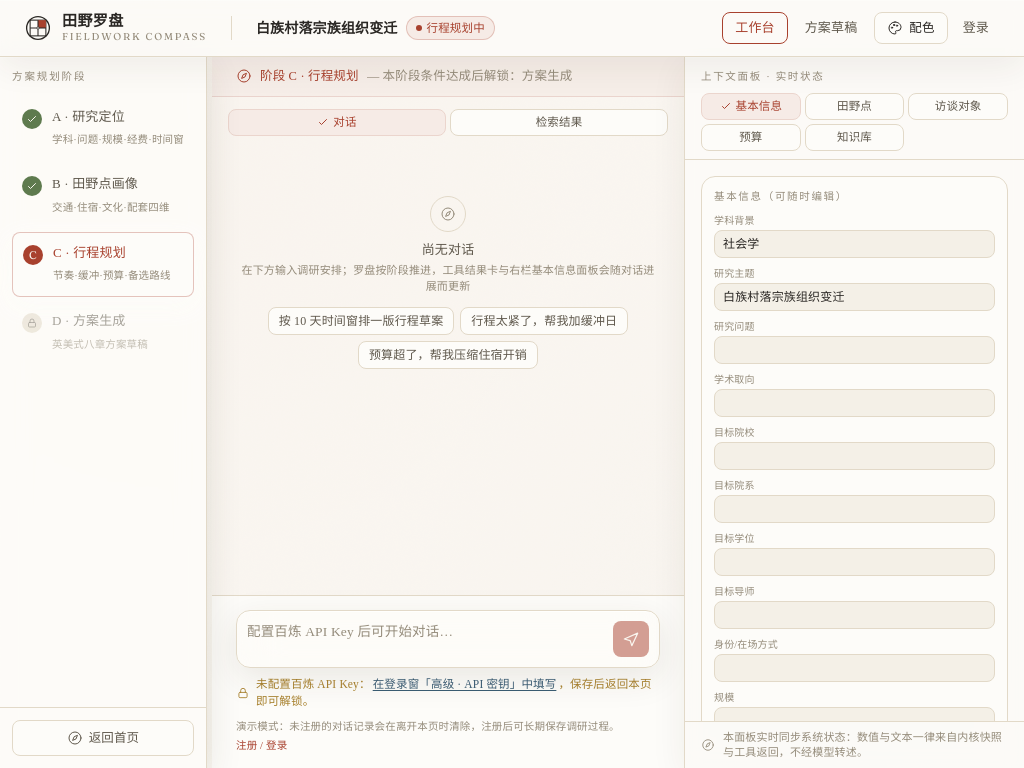
Test case: Workspace 无 key 拦截（可浏览不可发） › P5：锁定提示就地弹密钥层，保存百炼 Key 后关闭即解锁（不离开本页）
The width and height of the screenshot is (1024, 768).
Check: the element with test id "composer-lock-hint" shows "未配置百炼 API Key", box [256,678,371,690]
Note: 提示内按钮就地弹登录窗并自动展开高级密钥区（免回首页）
Click the button "在登录窗「高级 · API 密钥」中填写" at [465, 685], box [373,676,556,693]
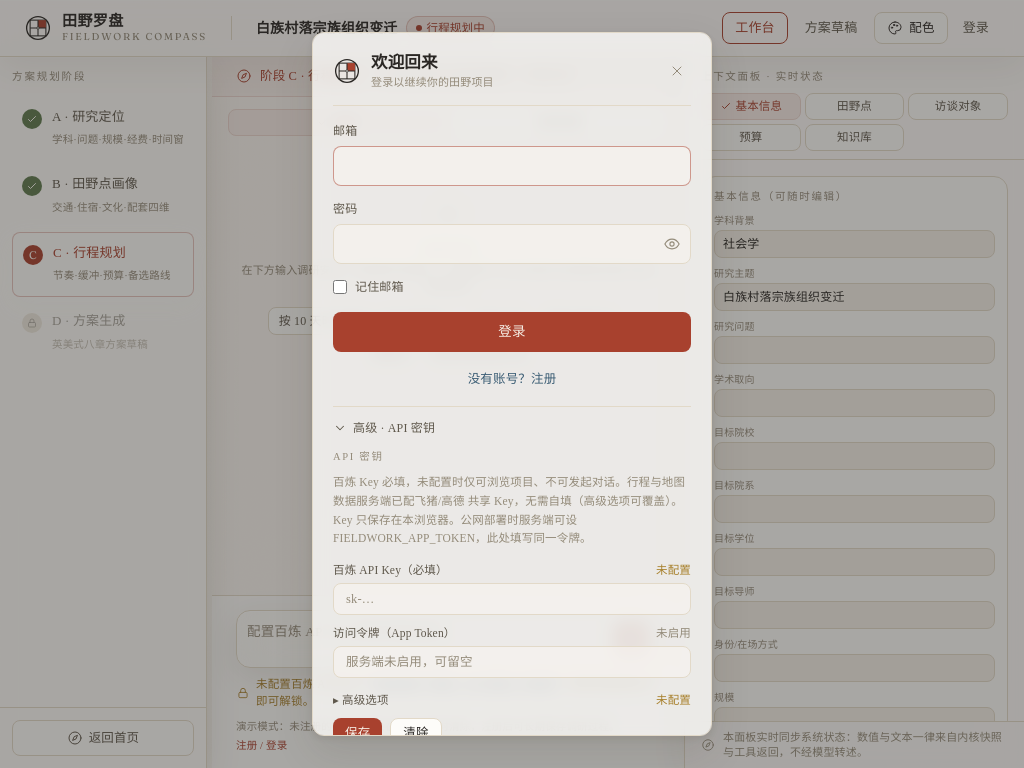
Check: the dialog named "登录或注册" is shown, box [312,32,712,736]
Note: 弹层里填 key 保存，关闭 → 解锁
Type "sk-late" into the password field labelled "百炼 API Key（必填） 未配置" at [512, 599], box [333,583,691,615]
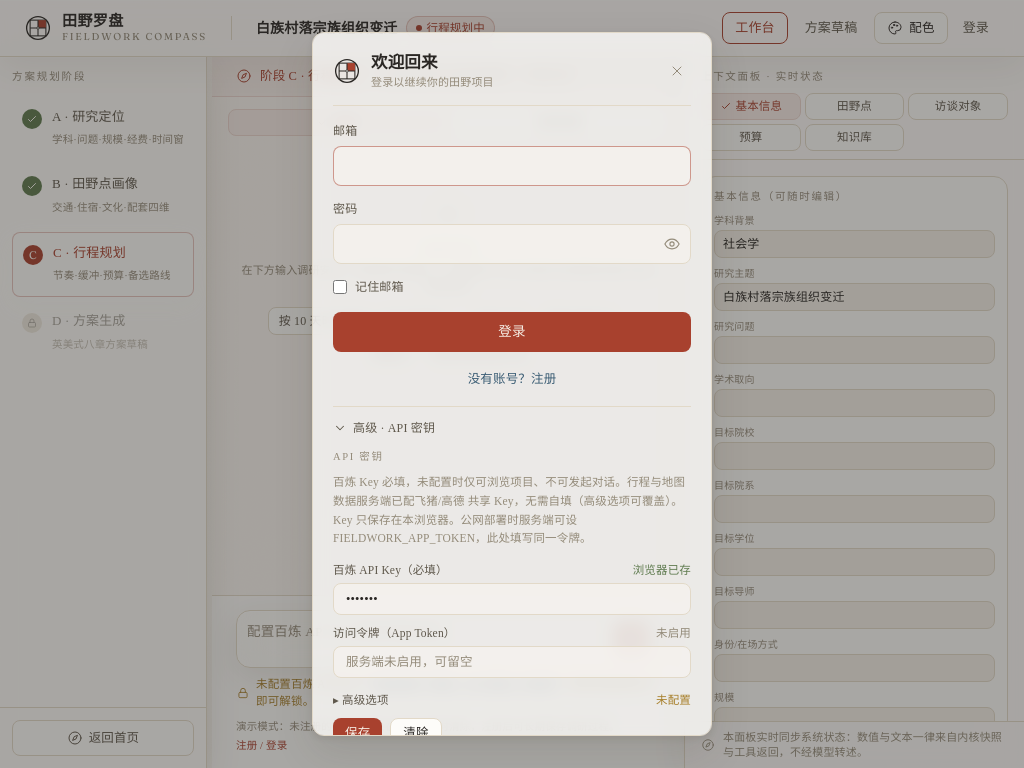
Click the button "保存" at [358, 734], box [333,718,382,750]
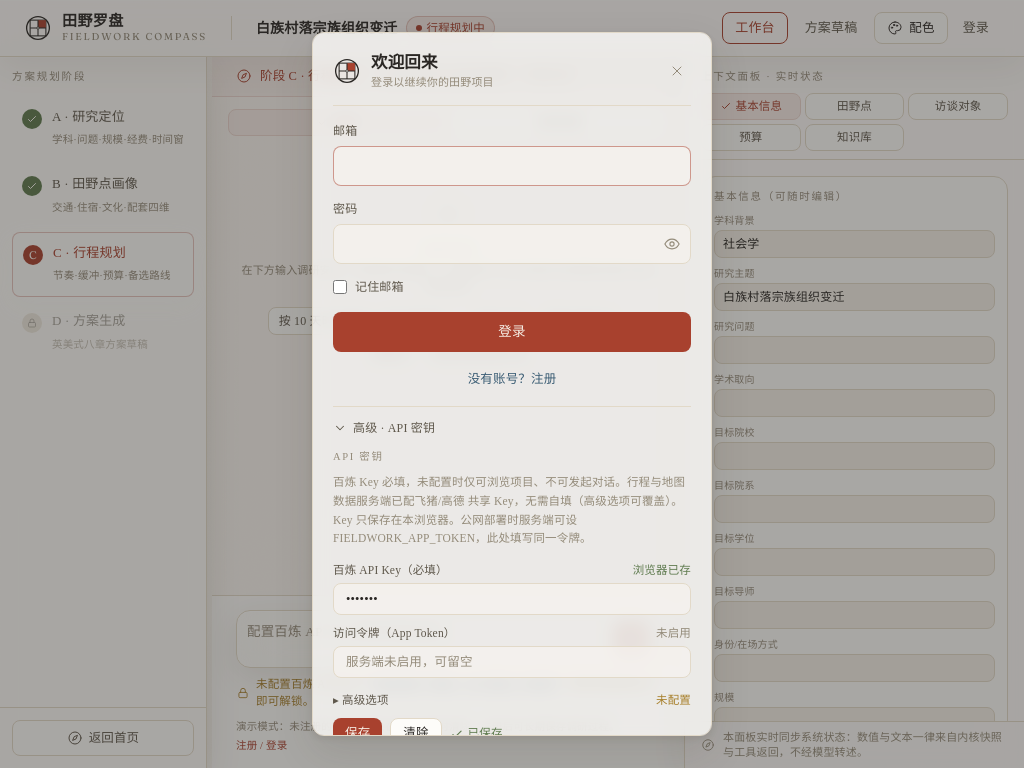
Click the button named "关闭" at [677, 71], box [663,57,691,85]
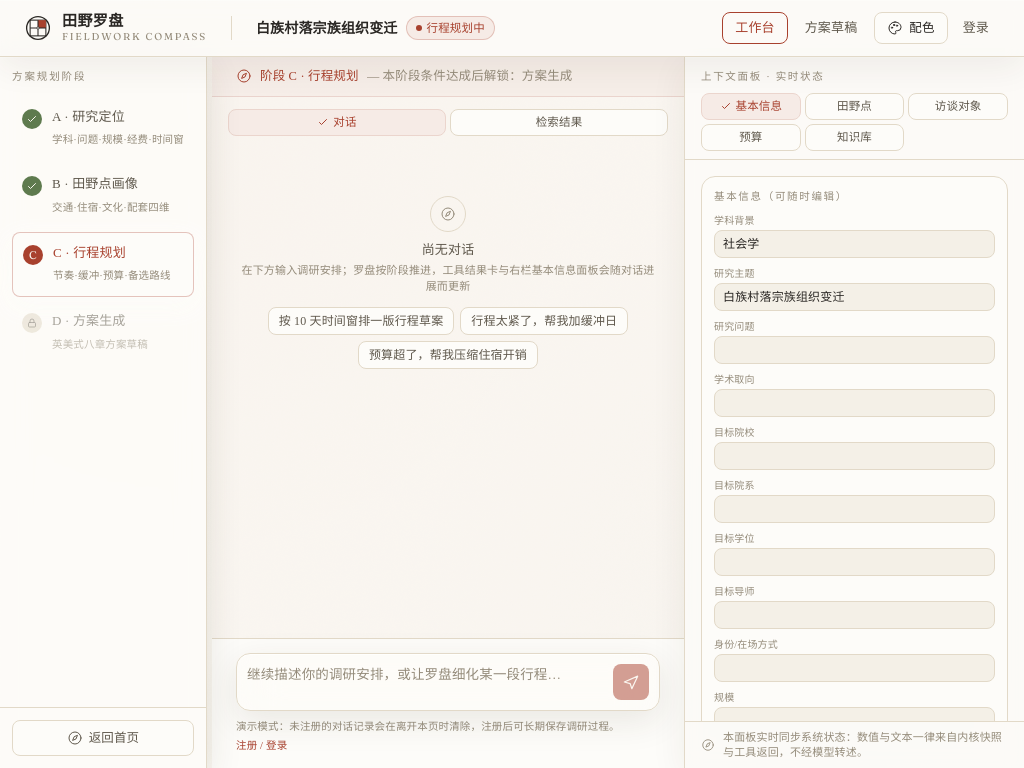
Check: the text box named "消息输入" is enabled, box [247,664,601,686]
Check: the element with test id "composer-lock-hint" is gone
